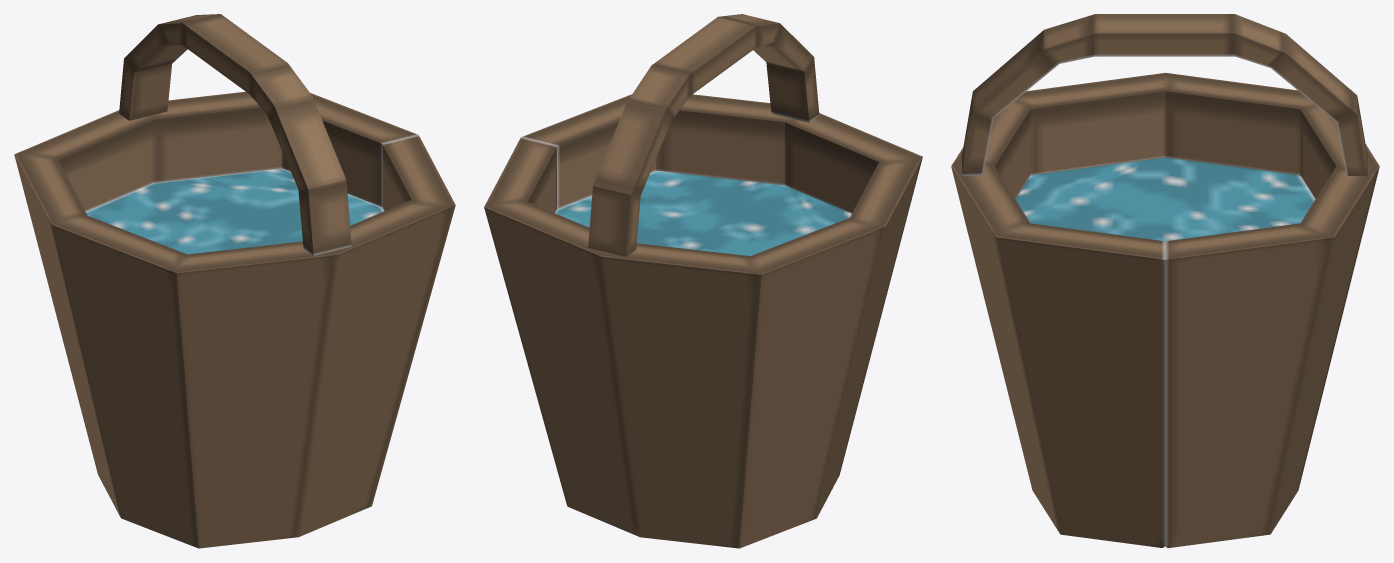
Rendered from Cubo01_Textured.fbx.
The picture shows the model from 3 angles, left to right: view 1: azimuth 30°, elevation 25°; view 2: azimuth 150°, elevation 25°; view 3: azimuth 270°, elevation 25°; orthographic projection. The views are drawn at different scales.
Parts seen in each view (by area): view 1: Cubo; view 2: Cubo; view 3: Cubo.
Boxes of the visible parts, left/top/right/bottom form: Cubo: left=14, top=14, right=455, bottom=548; Cubo: left=484, top=14, right=922, bottom=548; Cubo: left=951, top=14, right=1379, bottom=547.
Size of the model in its own units: 279 by 325 by 270.
